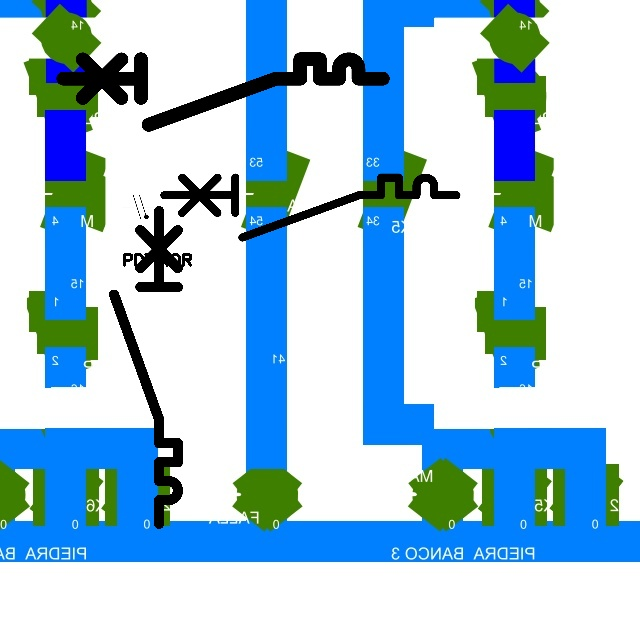interruptor_termomagnetico: (55, 51, 391, 133), (106, 203, 186, 532), (156, 170, 463, 245)
